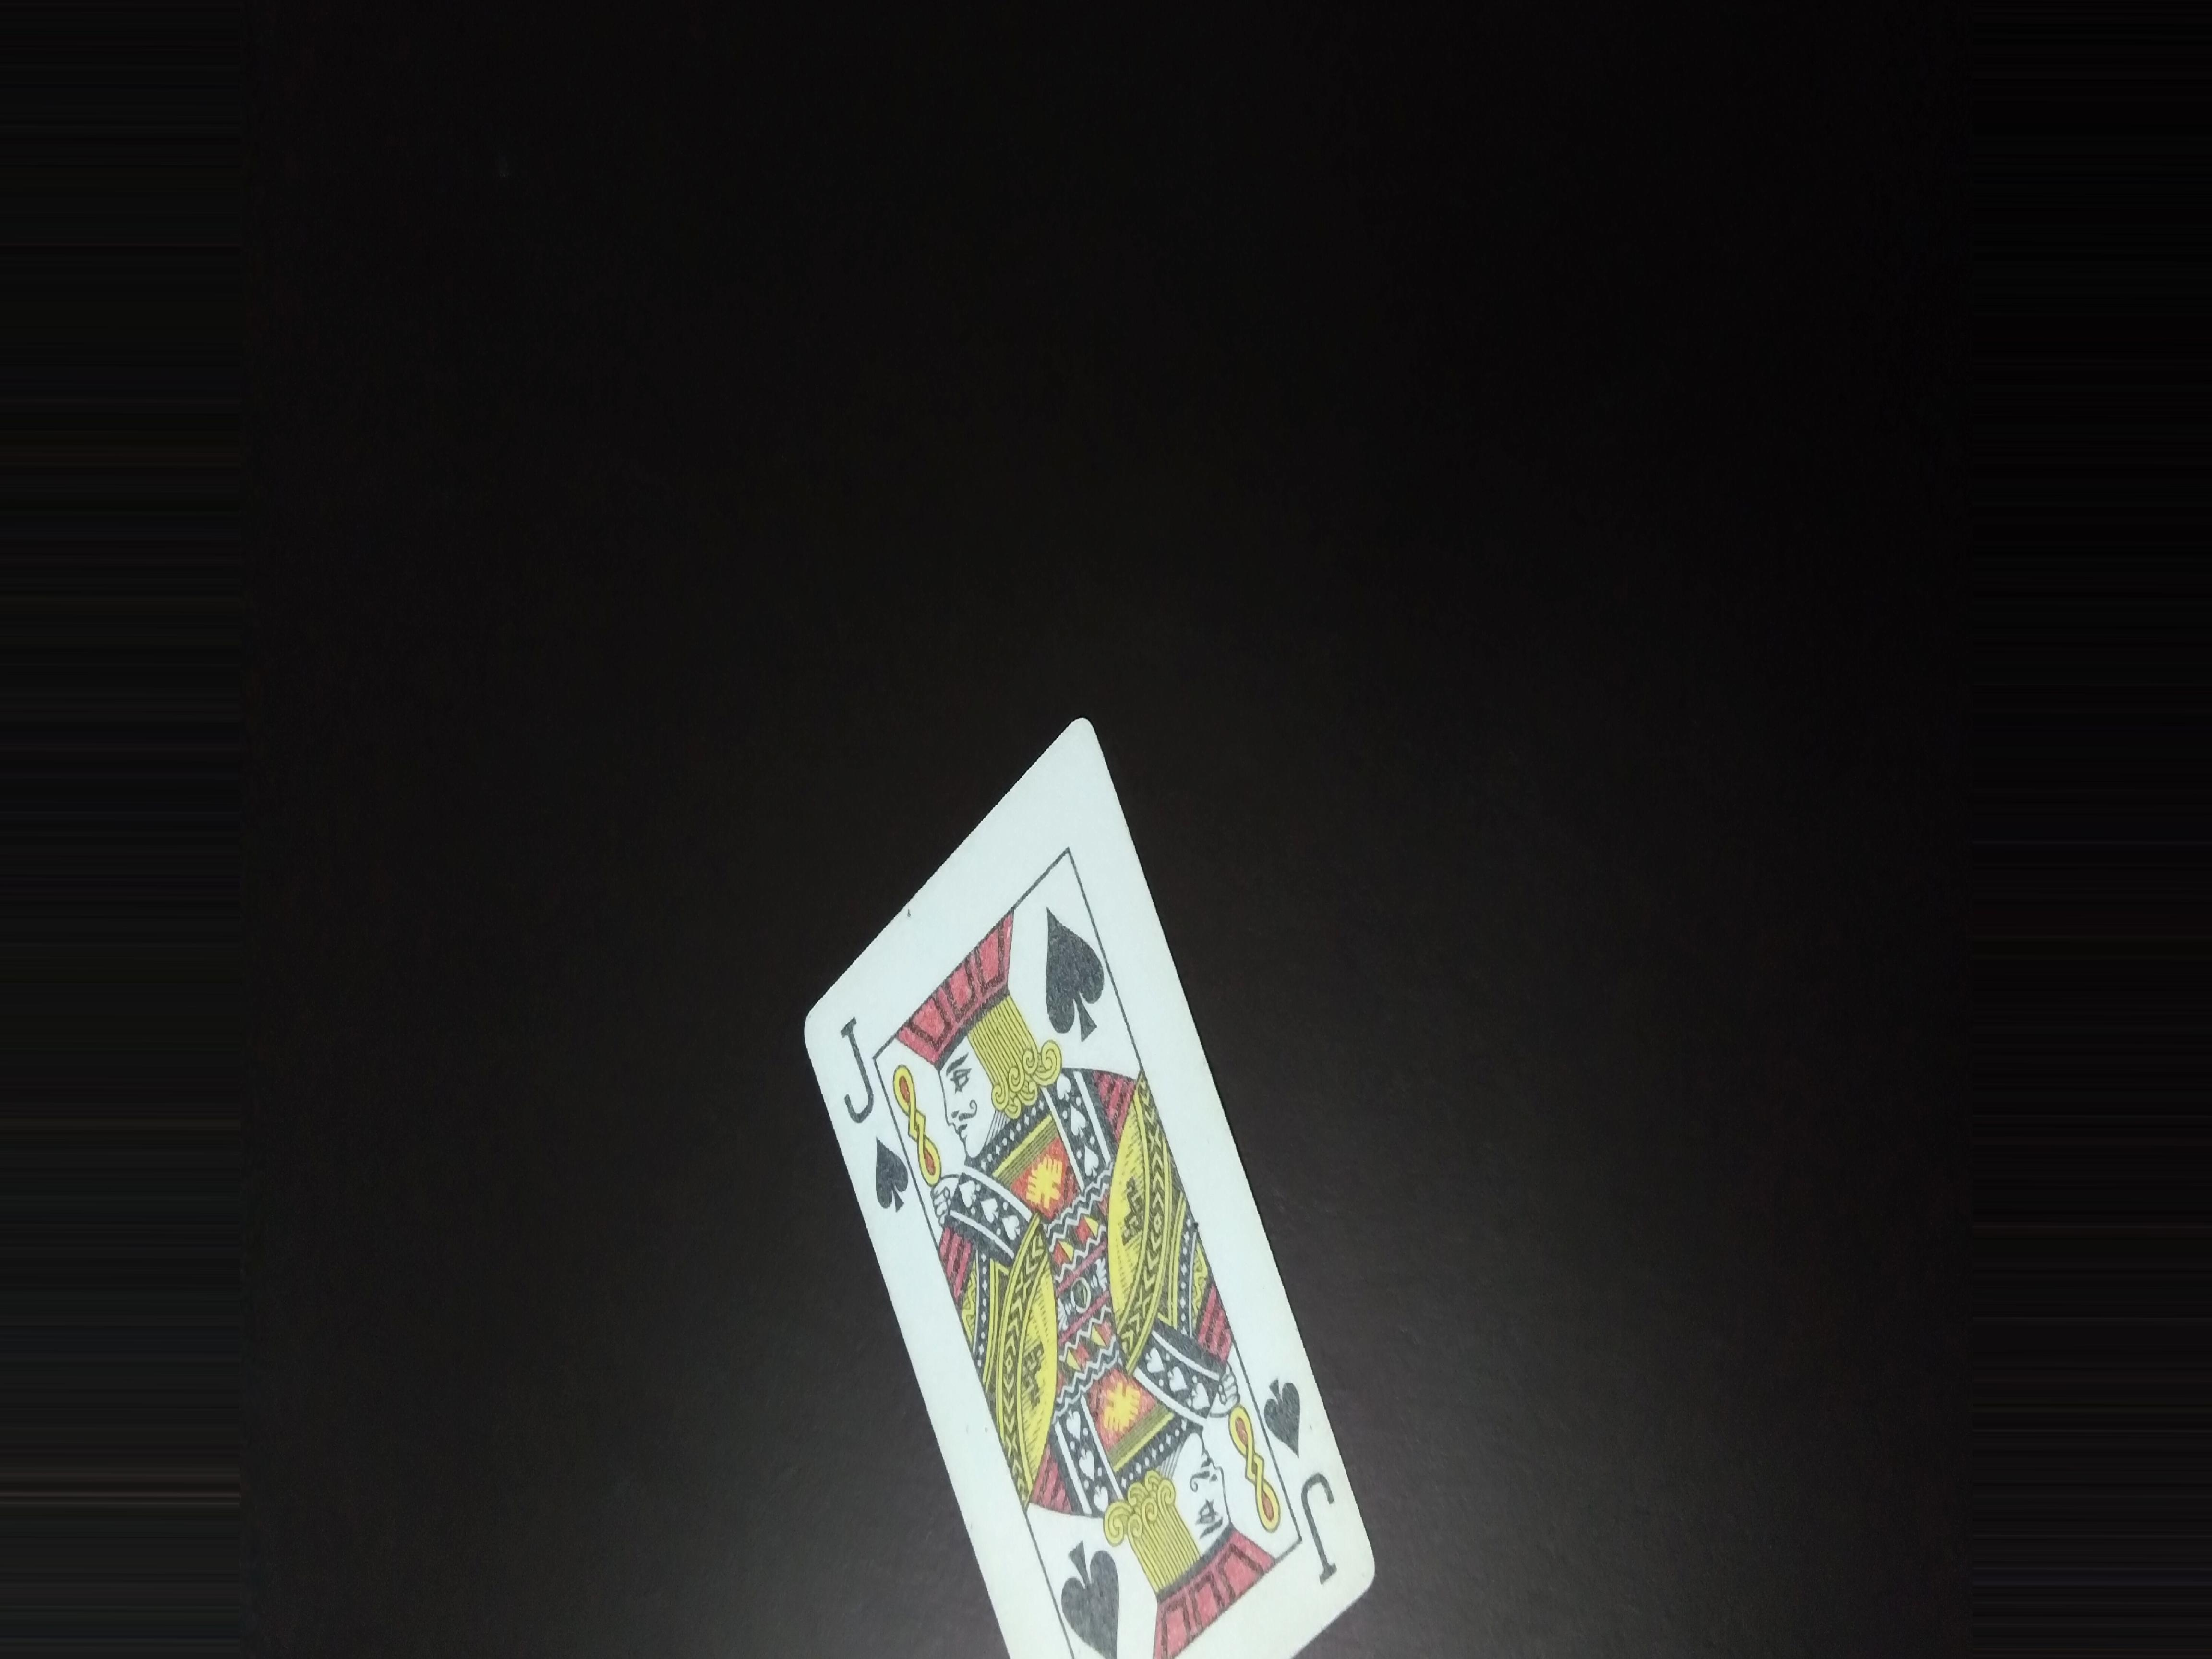JS: (824, 1009, 907, 1227)
